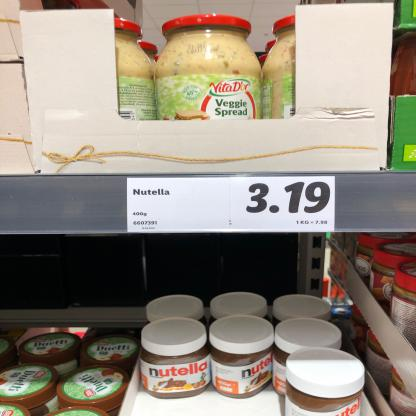prtg: (127, 178, 337, 234)
